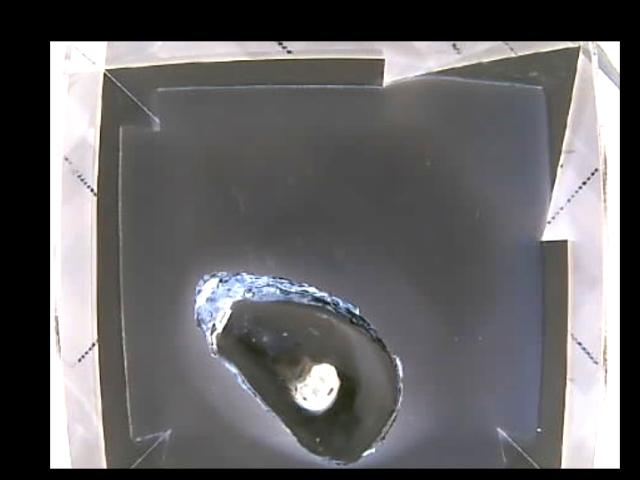Shell: (190, 270, 403, 467)
